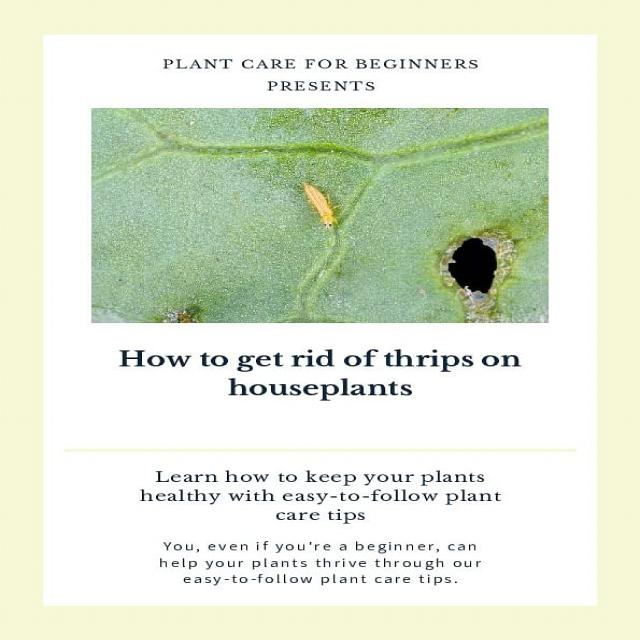Thrip-Larva-: (289, 175, 351, 233)
